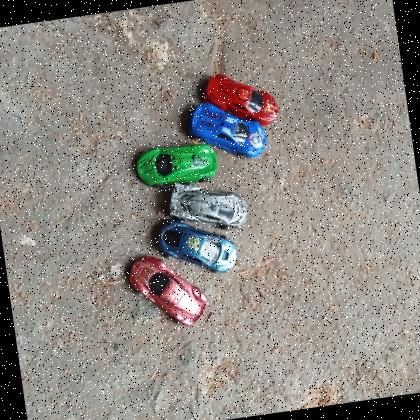Car: (125, 248, 212, 334), (185, 94, 272, 168), (154, 211, 241, 283), (164, 173, 253, 239), (201, 65, 282, 136), (132, 140, 220, 192)
